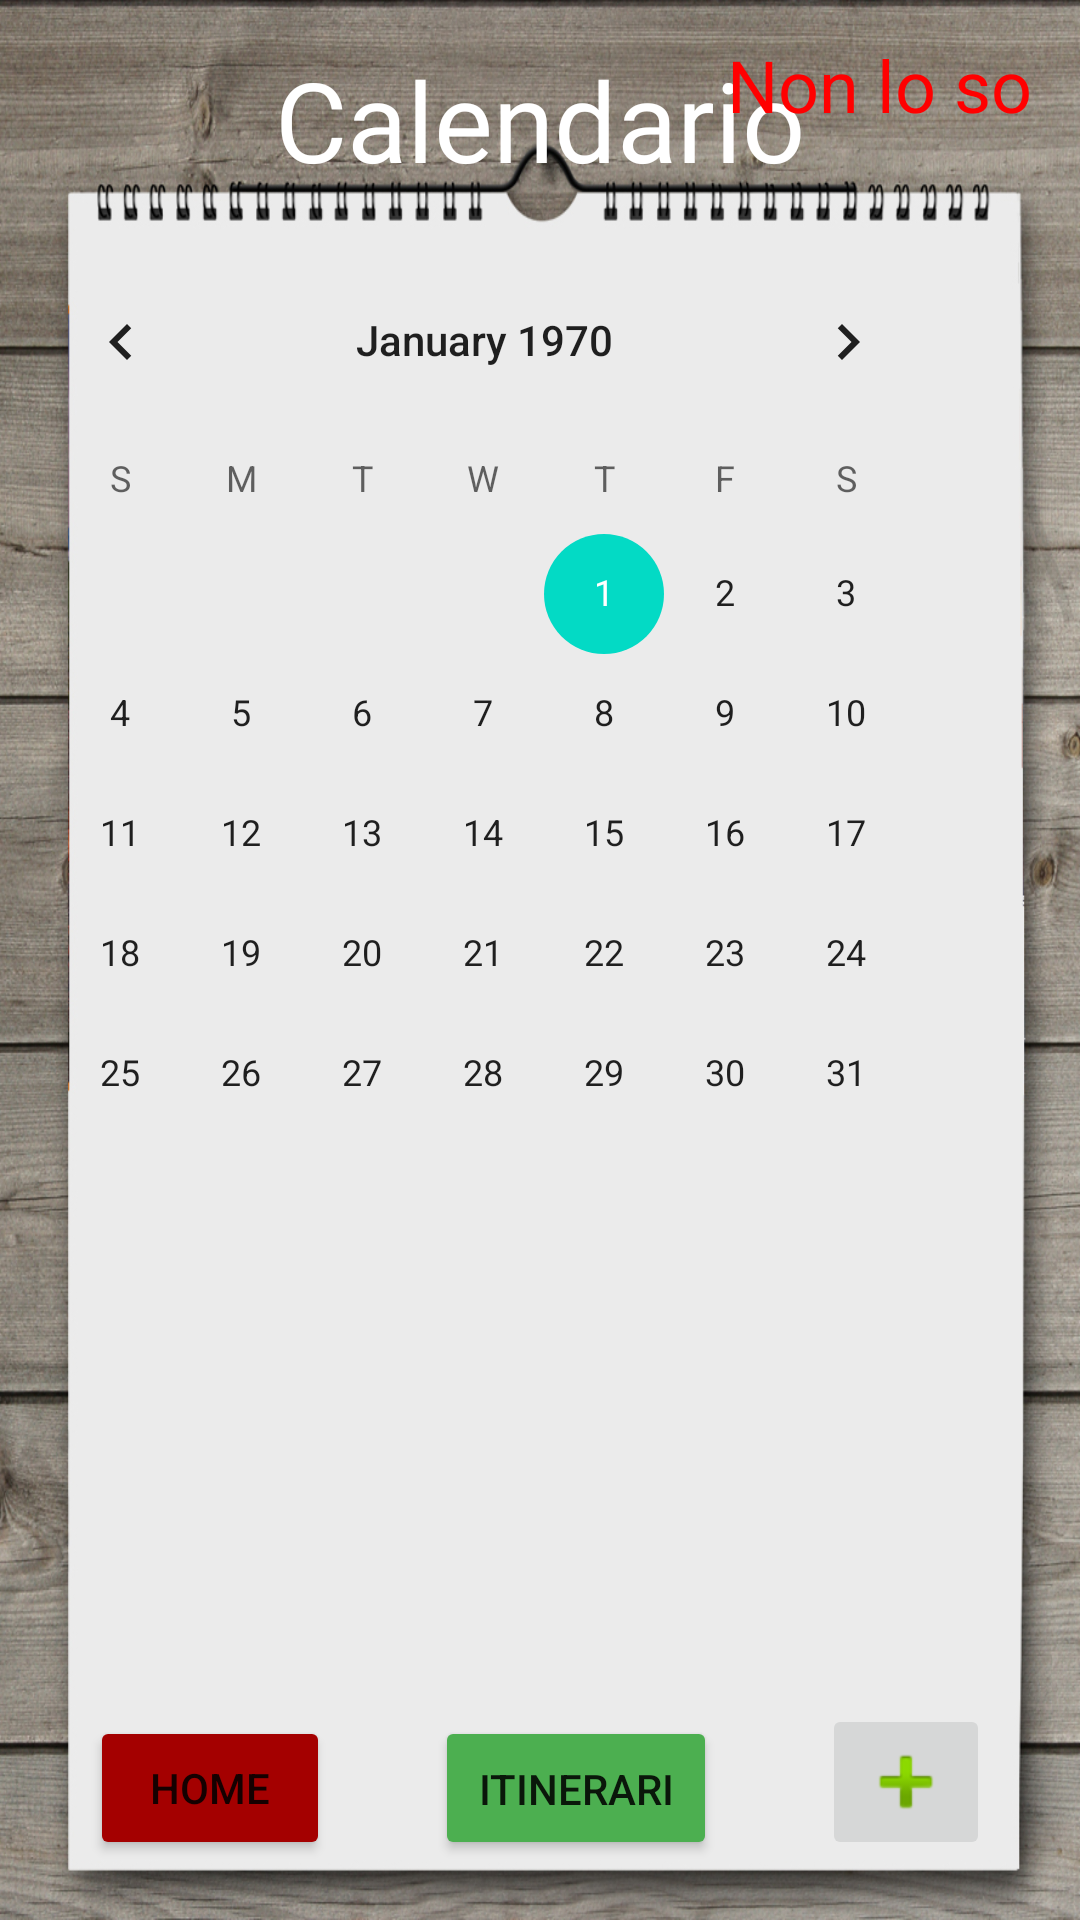

Named icons in this screenshot (1080px×1920px) and their centers, point (x, y):
add: point (906, 1782)
